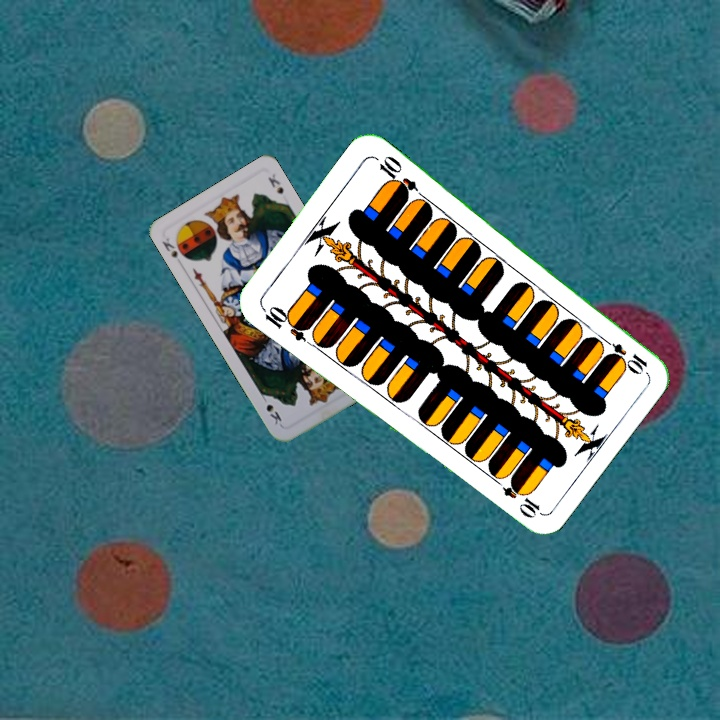E10: (257, 302, 312, 344), (596, 333, 650, 375)
SK: (158, 233, 190, 263)
